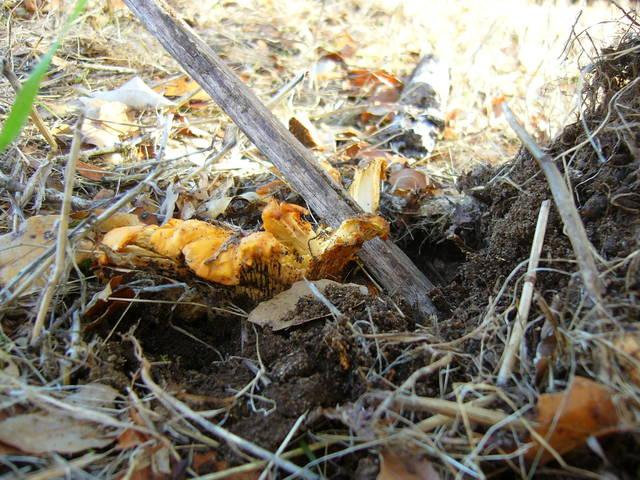Edible Mushroom: (95, 197, 390, 300)
